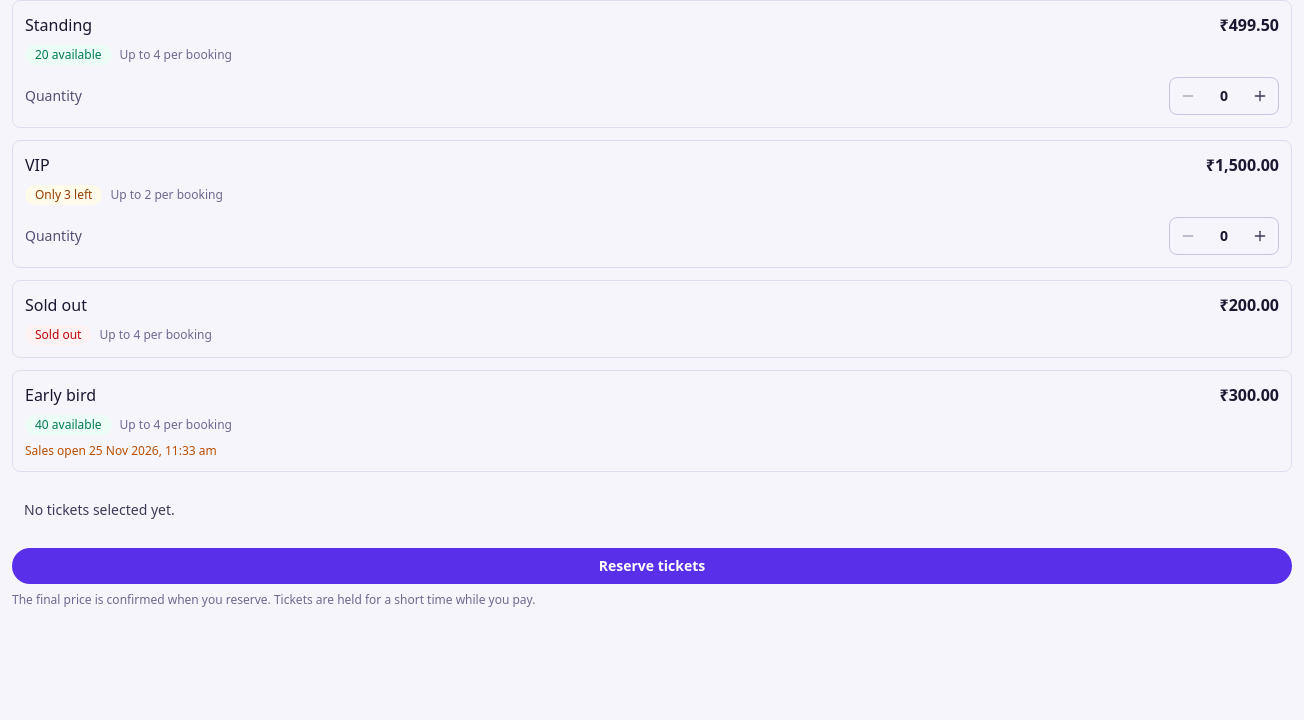
Test: BookingPanel › shows the server message and refreshes availability when tickets just sold out
The image size is (1304, 720).
Click the button named "Increase Standing quantity": (1260, 96) [1242, 78, 1278, 114]
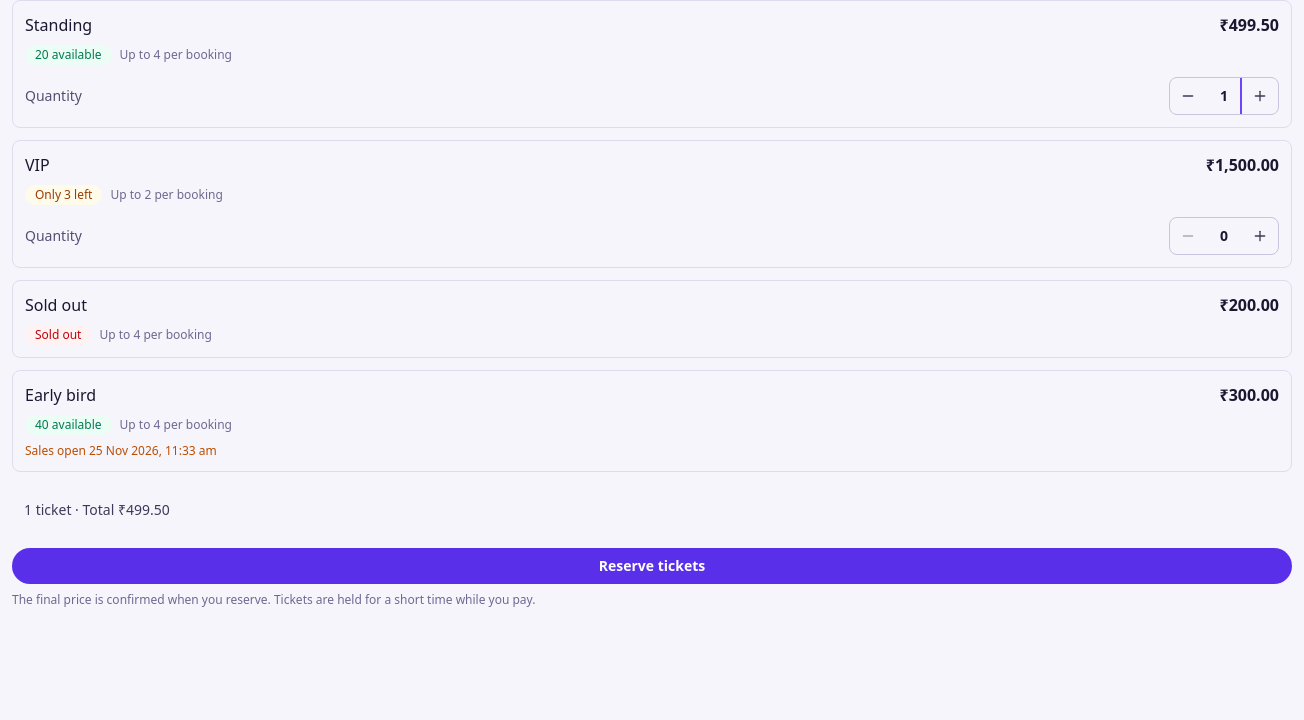
Click the button "Reserve tickets": (652, 566) [12, 548, 1292, 584]
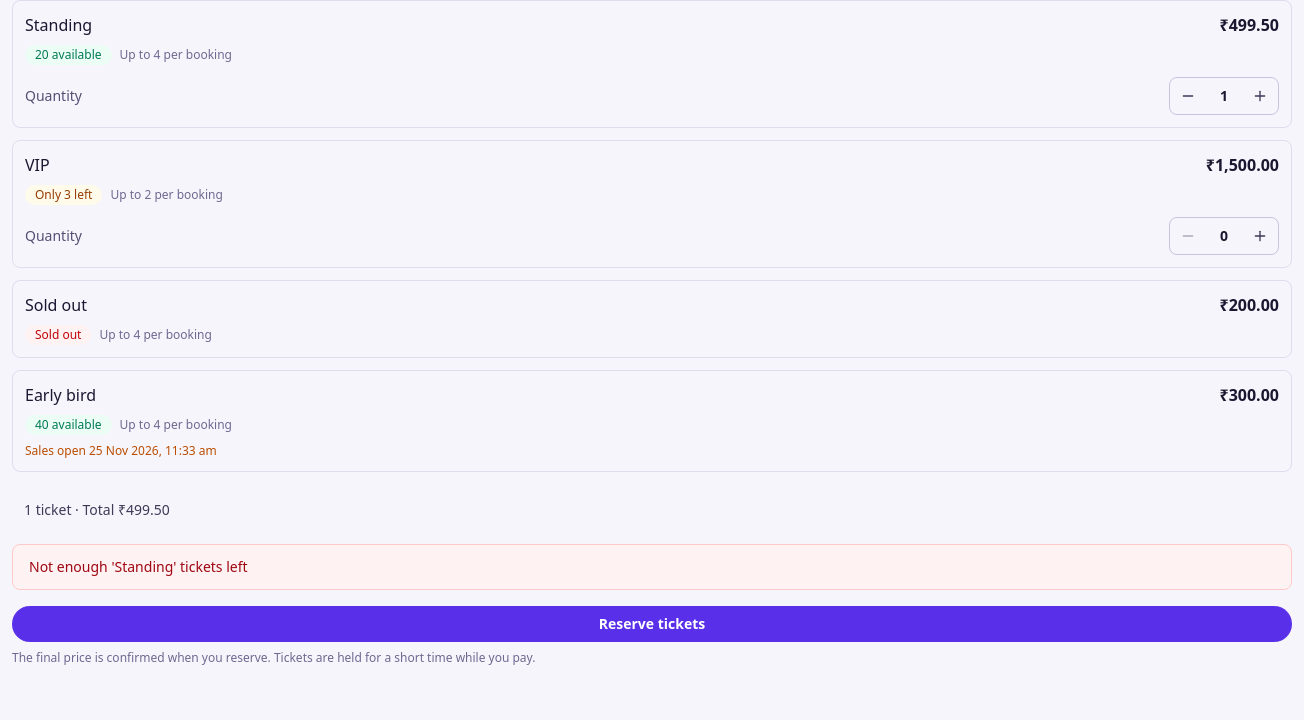
Expected: the message reads "Not enough 'Standing' tickets left", [29, 557, 248, 576]
